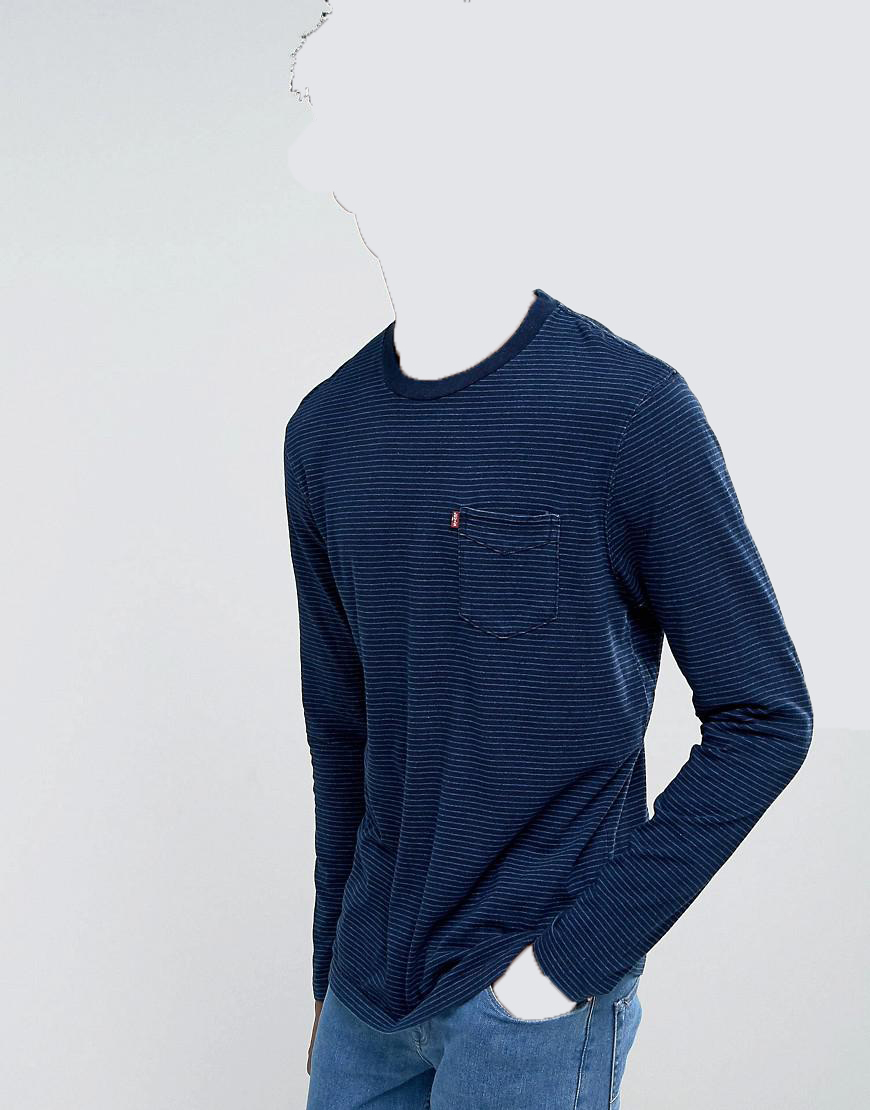teeshirt: (273, 290, 827, 1032)
